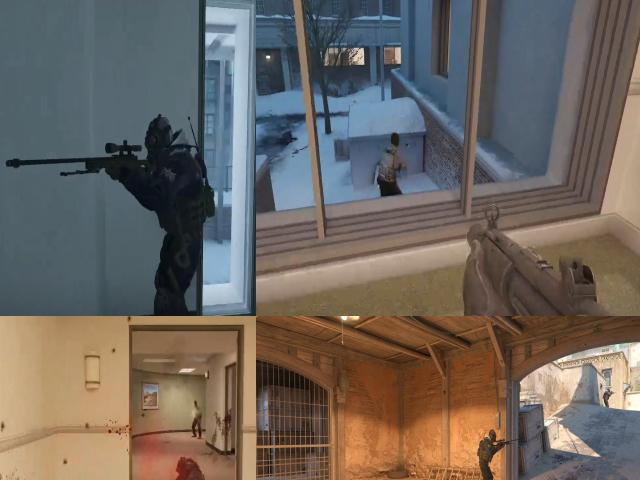CT: (136, 114, 213, 264), (476, 431, 500, 480), (604, 390, 610, 405)
CT-Head: (136, 116, 174, 170), (488, 430, 497, 442), (608, 388, 610, 391)
Dead: (149, 452, 209, 480), (272, 125, 300, 149)
T: (370, 126, 409, 190), (190, 396, 203, 431)
T-Head: (388, 132, 403, 155), (192, 398, 201, 413)
